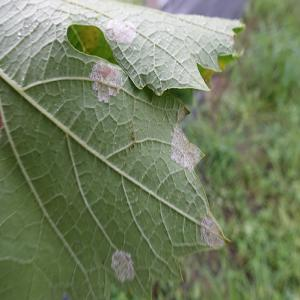Folha: (0, 0, 244, 299)
Fungo: (170, 123, 204, 173), (89, 60, 123, 104), (199, 214, 226, 249), (110, 249, 135, 283), (105, 18, 137, 44)
